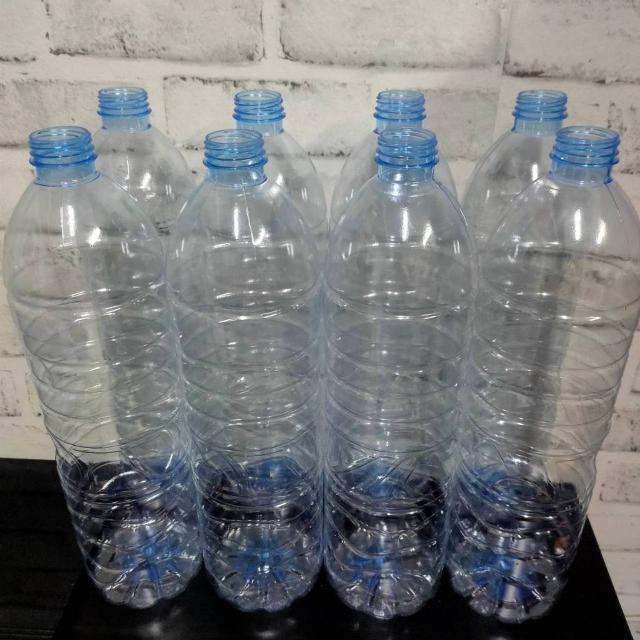PET Bottle: (6, 112, 194, 609), (151, 128, 331, 612), (458, 113, 628, 625), (326, 112, 452, 622)
